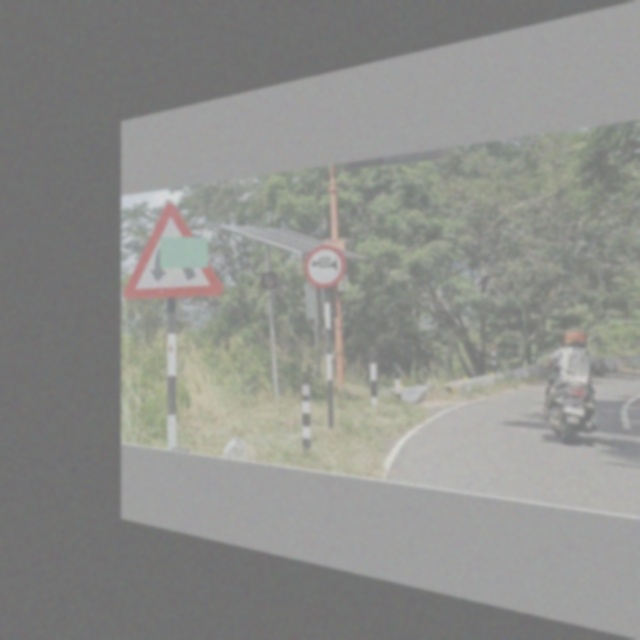Left_Hair_Pin_Bend: (126, 197, 223, 301)
